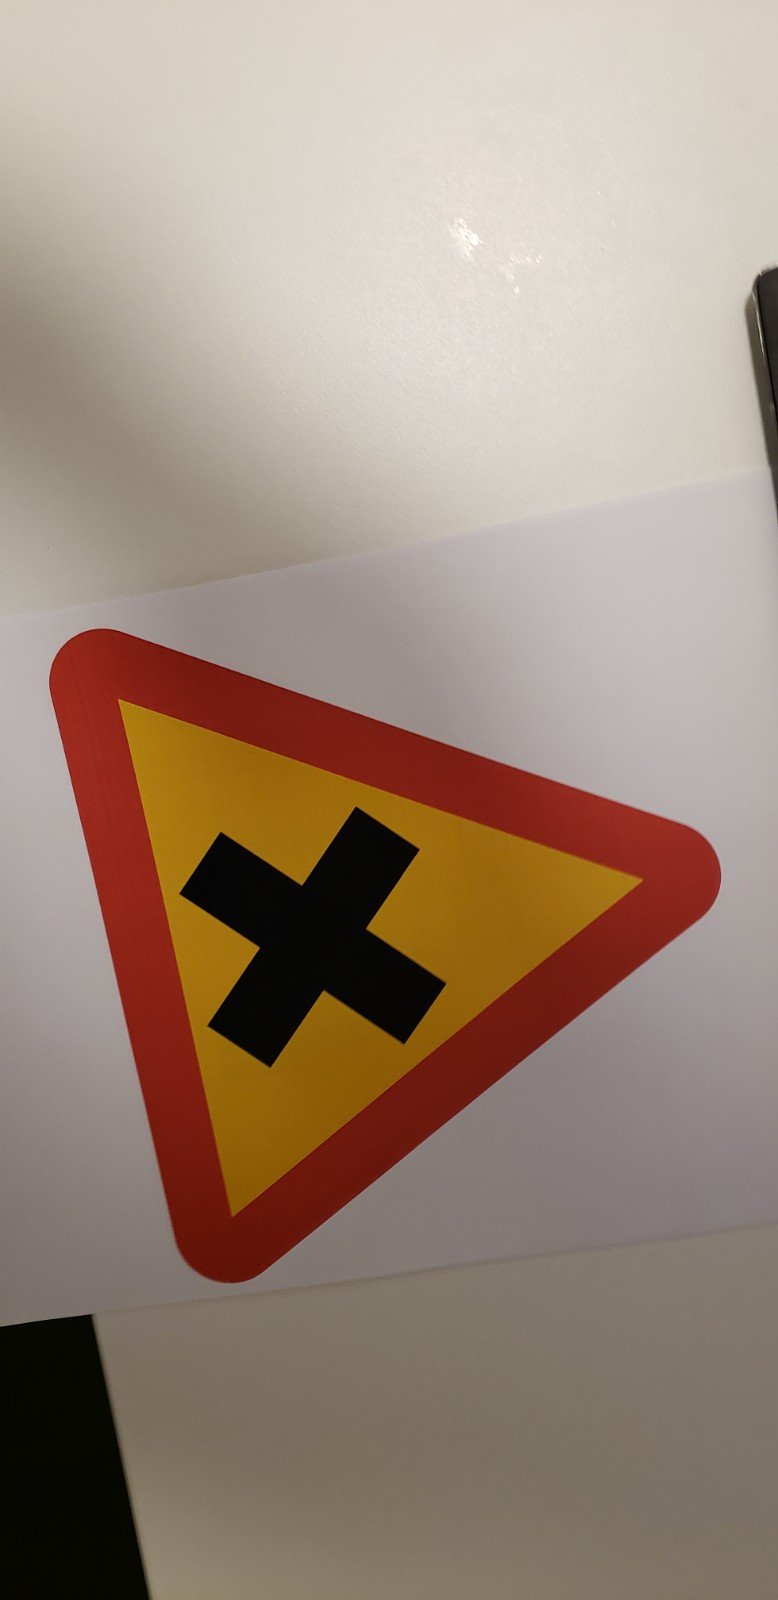junction: (23, 620, 753, 1319)
